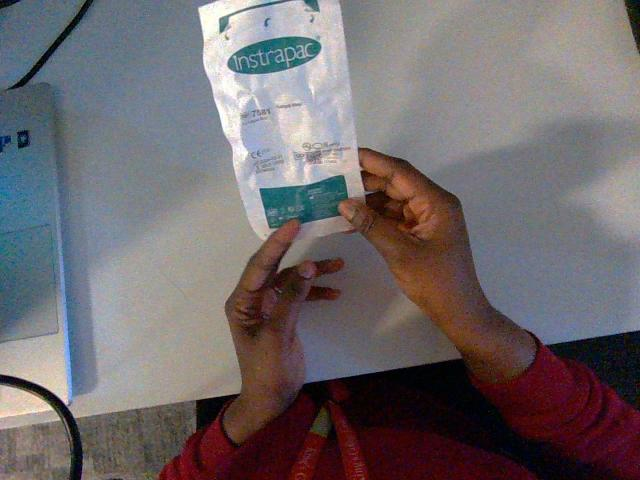gallipot: (199, 0, 363, 237)
